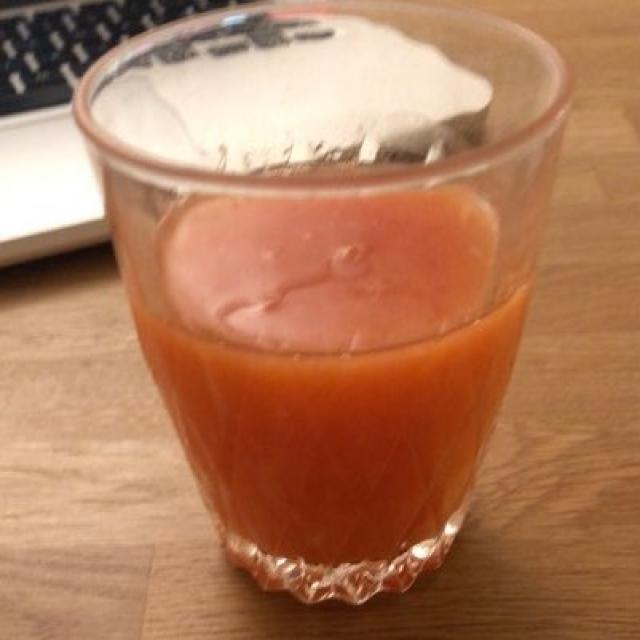juice: (98, 22, 550, 583)
